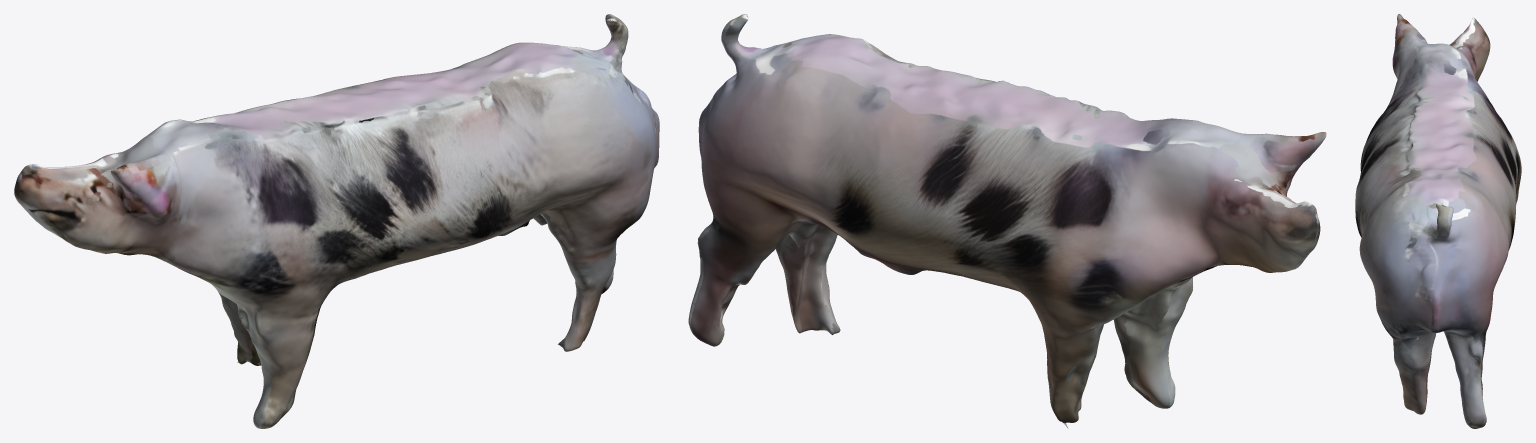
File: joven.glb
3 renders of one model, left to right at view 1: azimuth 30°, elevation 25°; view 2: azimuth 150°, elevation 25°; view 3: azimuth 270°, elevation 25°, orthographic. The views are drawn at different scales.
Visible parts, largest first — view 1: mesh; view 2: mesh; view 3: mesh.
Part boxes in pixels (left/top/right/bottom): mesh: left=14, top=14, right=659, bottom=428; mesh: left=688, top=14, right=1326, bottom=428; mesh: left=1355, top=14, right=1521, bottom=428.
Size of the model in its own units: 1.88 by 0.8791 by 0.5868.
Materials: 1 (1 with a texture image).
